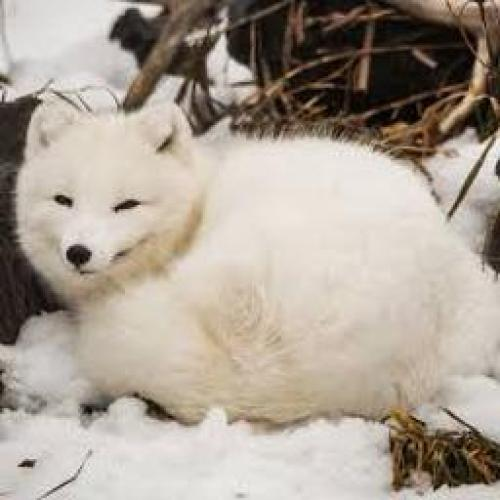arctic_fox-endangered: (14, 92, 498, 416)
